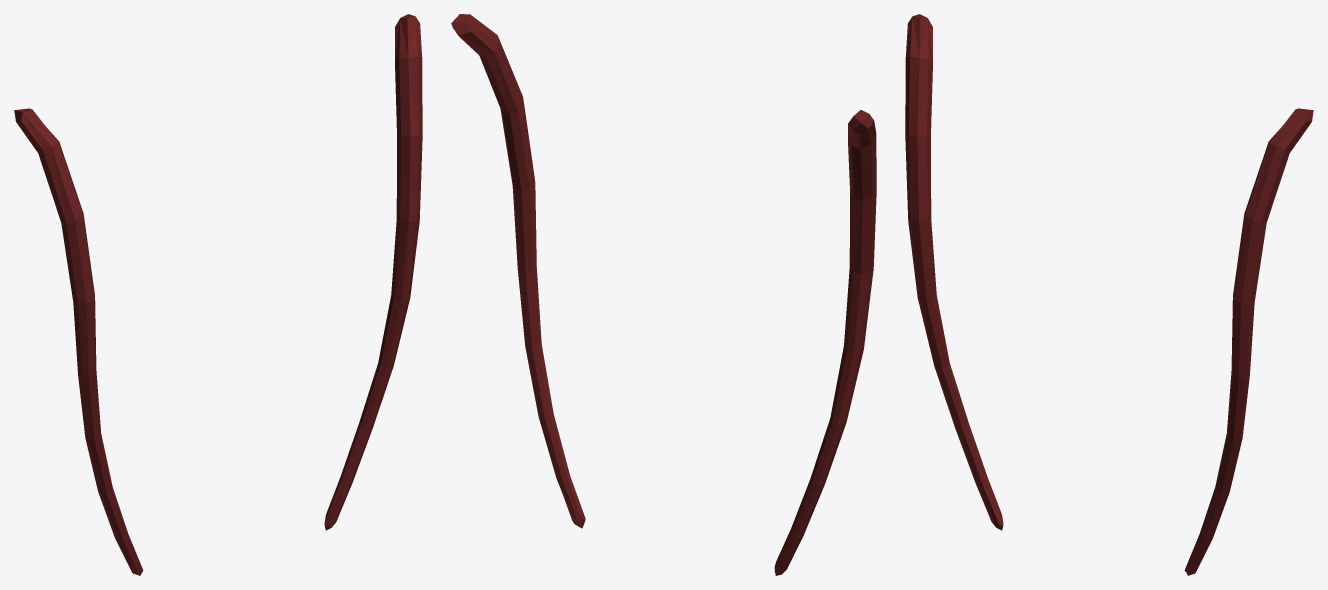
File: Artéria Obturatriz.FBX
The picture shows the model from 3 angles, left to right: view 1: azimuth 30°, elevation 25°; view 2: azimuth 150°, elevation 25°; view 3: azimuth 330°, elevation 25°; orthographic projection. The views are drawn at different scales.
Visible parts, largest first — view 1: CS_Arterie; view 2: CS_Arterie; view 3: CS_Arterie.
Part boxes in pixels (bbox=[...]): CS_Arterie: bbox=[14, 14, 422, 575]; CS_Arterie: bbox=[451, 14, 876, 575]; CS_Arterie: bbox=[905, 14, 1313, 575].
Size of the model in its own units: 212 by 243 by 37.09.
